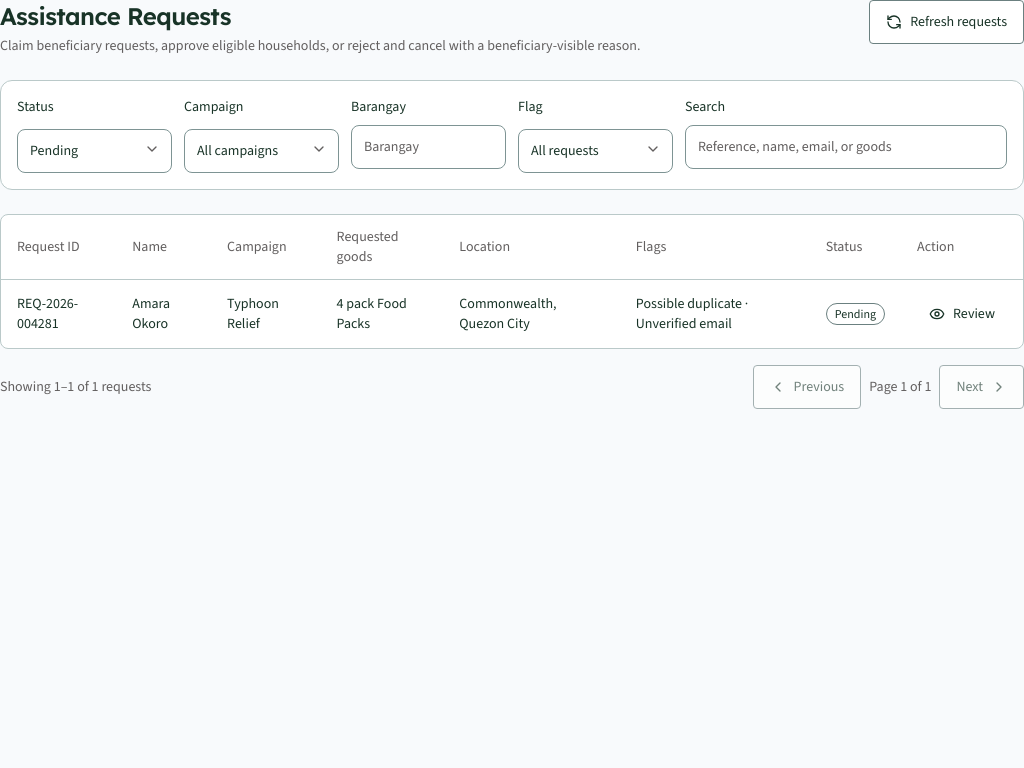
Scenario: RequestsPage › lists flags without auto-rejecting a possible duplicate
This screenshot has width=1024, height=768.
Expected: the text "REQ-2026-004281" is shown, [17, 294, 78, 333]
Click the button "Review" at (962, 314), box [917, 292, 1007, 336]
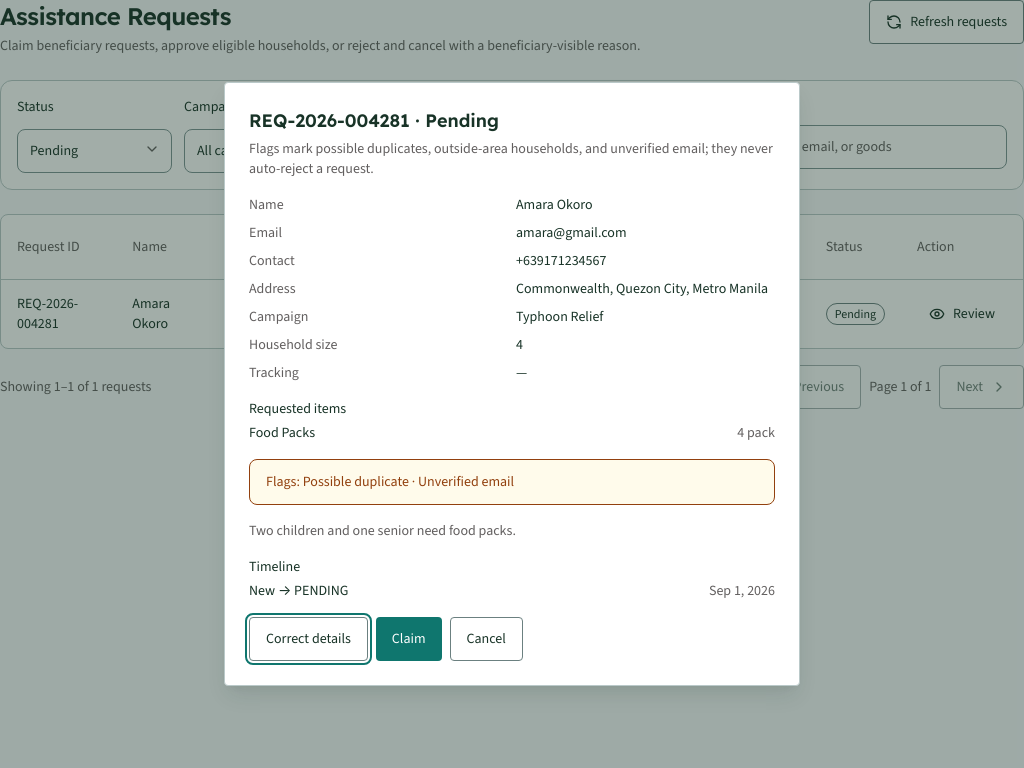
Expected: the button "Claim" is shown, [376, 617, 442, 661]
